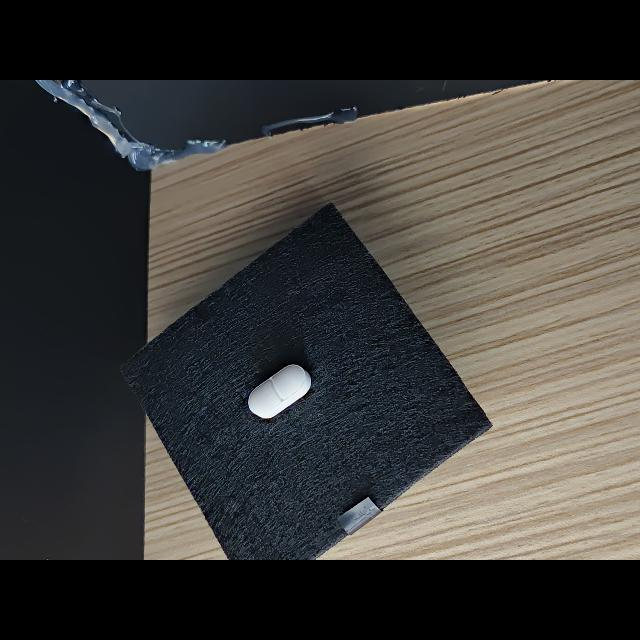Intact Pill: (248, 364, 311, 418)
